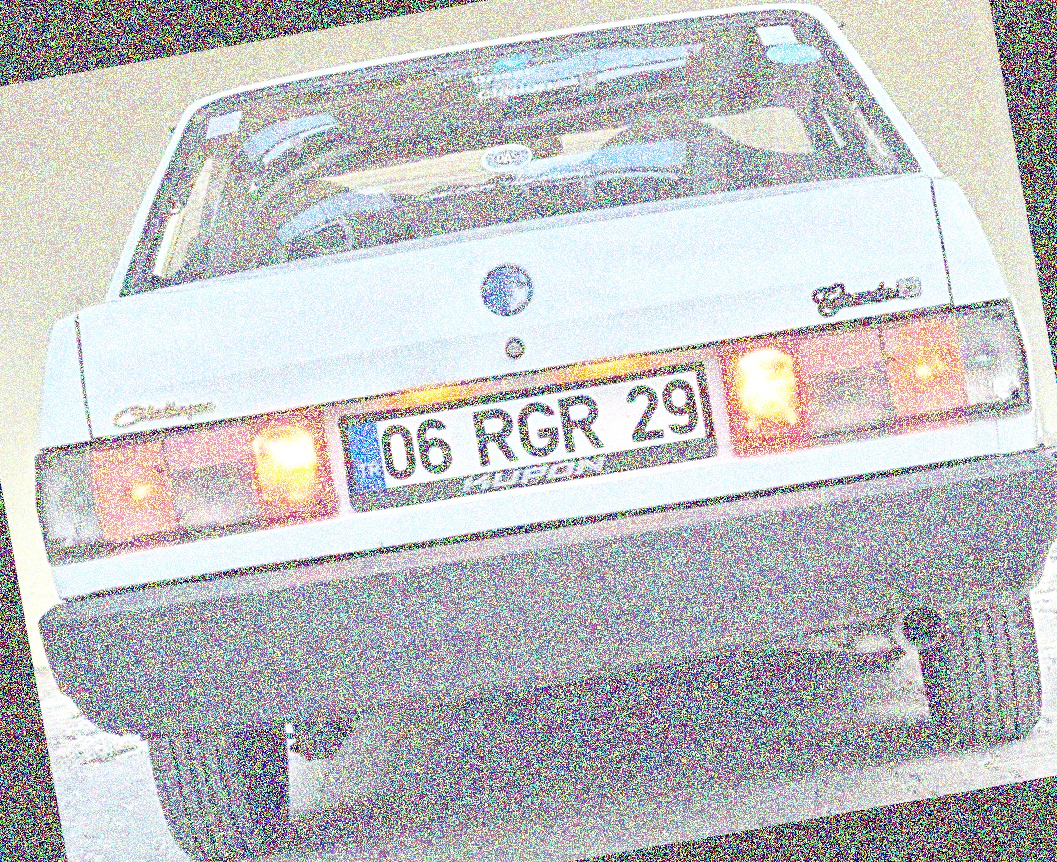plaka: (358, 368, 718, 490)
